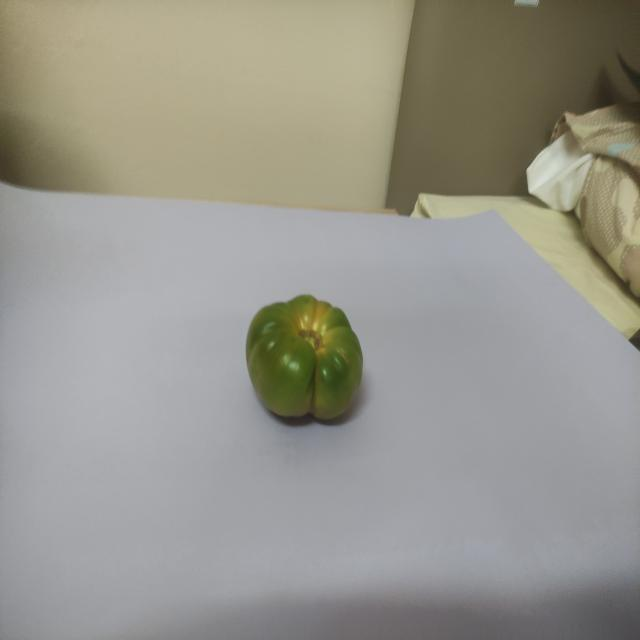yesil: (236, 278, 376, 434)
